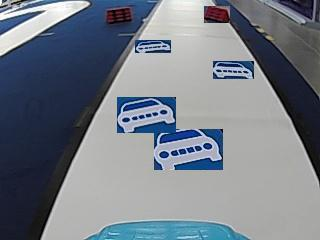bomb: (106, 5, 132, 22)
